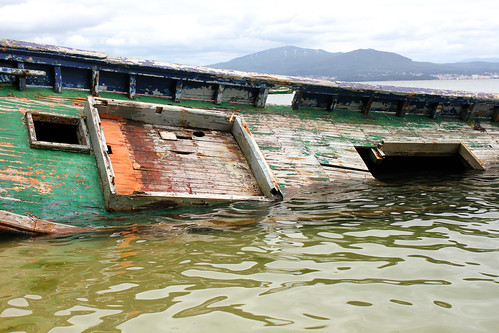boat: (3, 56, 499, 274)
mountain: (246, 34, 409, 65)
river: (1, 174, 499, 333)
sky: (1, 1, 490, 50)
